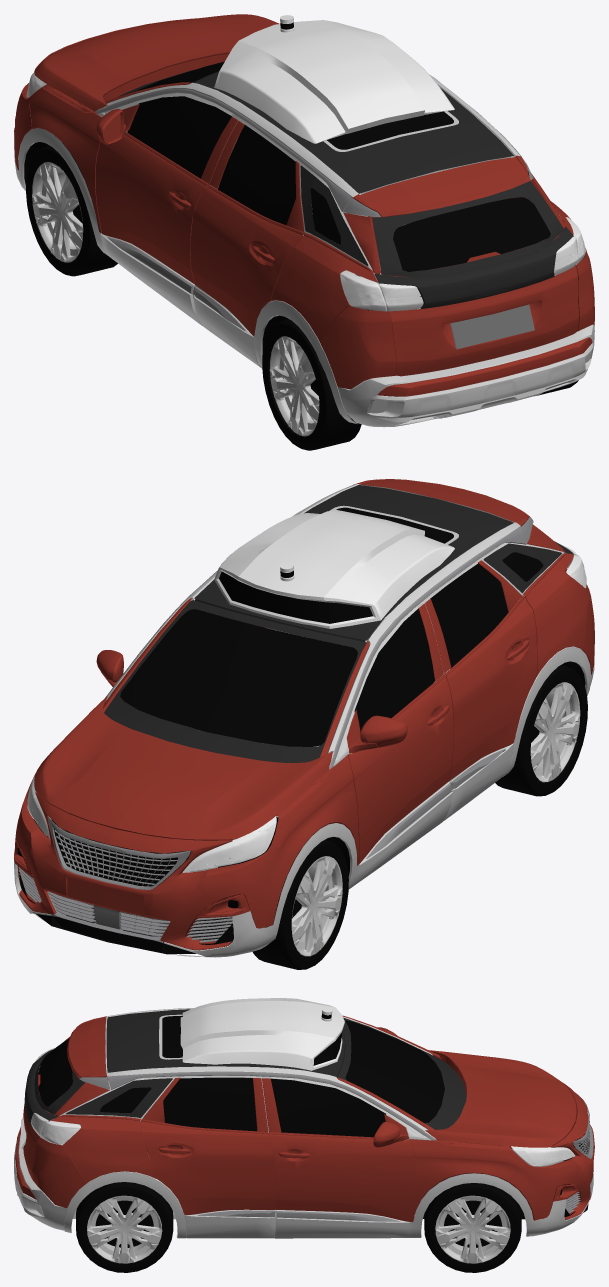
Rendered from maincar_suv.glb.
The picture shows the model from 3 angles, top to bottom: view 1: azimuth 30°, elevation 25°; view 2: azimuth 150°, elevation 25°; view 3: azimuth 270°, elevation 25°; orthographic projection. The views are drawn at different scales.
Visible parts, largest first — view 1: suv_car, back_left, front_left, License Plate, Light_Red_Back_Left, Light_Red_Back_Right, Light_White_Back_Left; view 2: suv_car, front_left, back_left, Light_Lamp Housings_Front_Left; view 3: suv_car, back_right, front_right, Light_Red_Back_Right, Light_Lamp Housings_Front_Right.
Part boxes in pixels (x1,y1,x2,y2): suv_car: (14,14,594,427); back_left: (262,319,361,450); front_left: (26,143,117,276); License Plate: (450,304,534,349); Light_Red_Back_Left: (340,271,423,311); Light_Red_Back_Right: (554,217,585,275); Light_White_Back_Left: (340,276,422,305); suv_car: (14,479,594,957); front_left: (253,839,348,969); back_left: (495,665,587,796); Light_Lamp Housings_Front_Left: (182,816,276,872); suv_car: (14,998,594,1238); back_right: (76,1182,173,1272); front_right: (424,1183,521,1272); Light_Red_Back_Right: (30,1113,80,1144); Light_Lamp Housings_Front_Right: (511,1146,575,1165).
Bounding box in the file's own units: 2.33 × 2.16 × 5.23.
